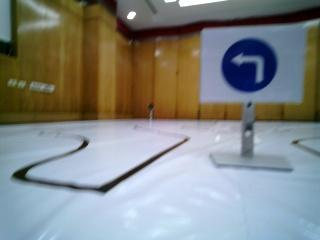left: (206, 29, 294, 97)
